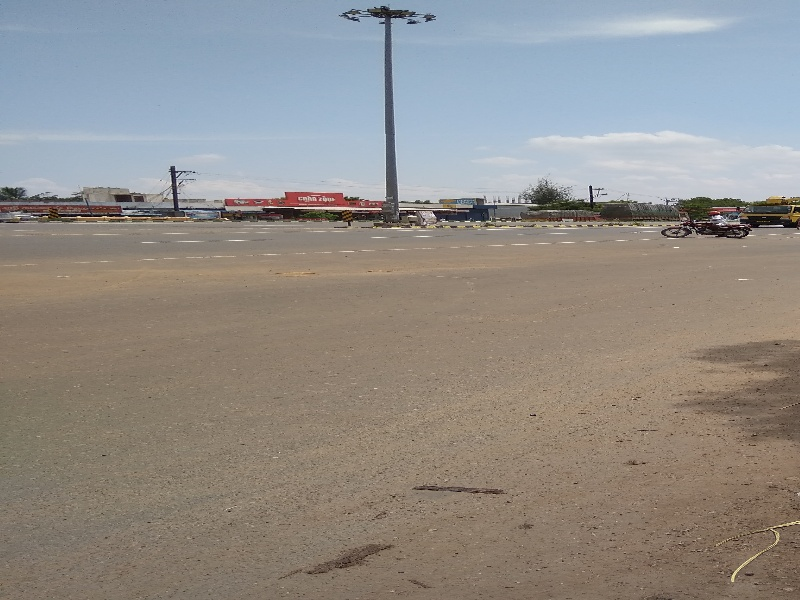biker: (655, 182, 759, 245)
helmet: (703, 206, 725, 220)
